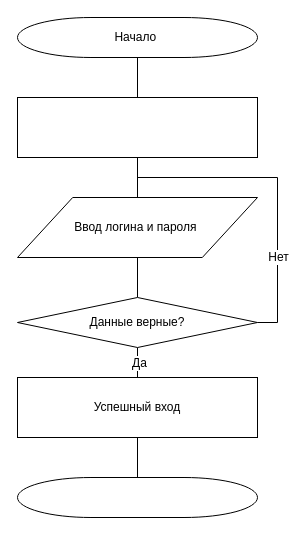
Image size: 305x535. Some labels were removed from this diagram. Here are the shapes that lost their labels. From the top down, the centre of each, then its label:
the point at 137,127: Открытие окна авторизации
the point at 137,497: Конец
